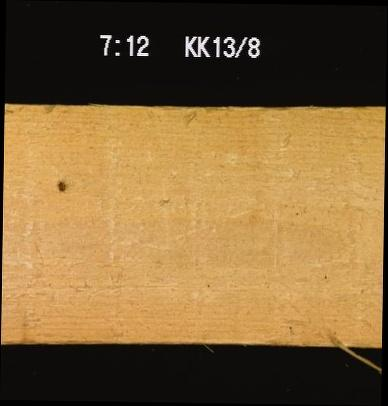small_knot: (54, 177, 66, 194)
